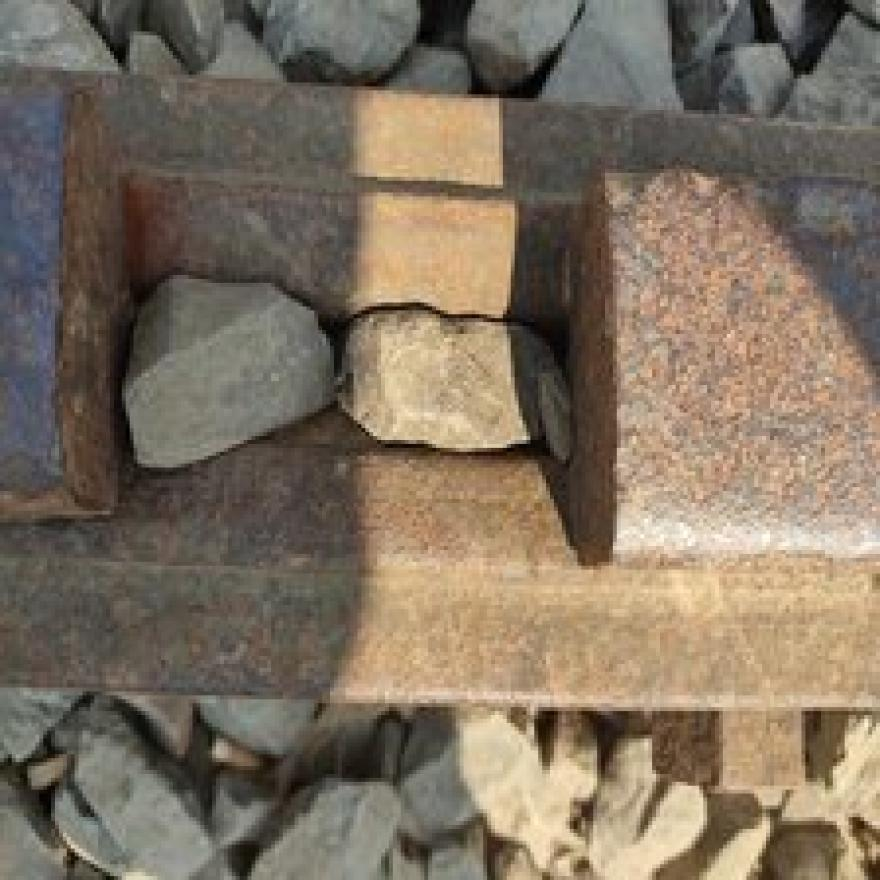railway-gap: (0, 43, 749, 661)
